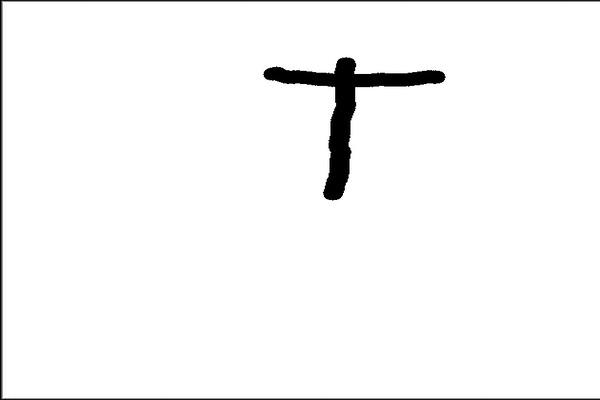T: (265, 54, 454, 200)
